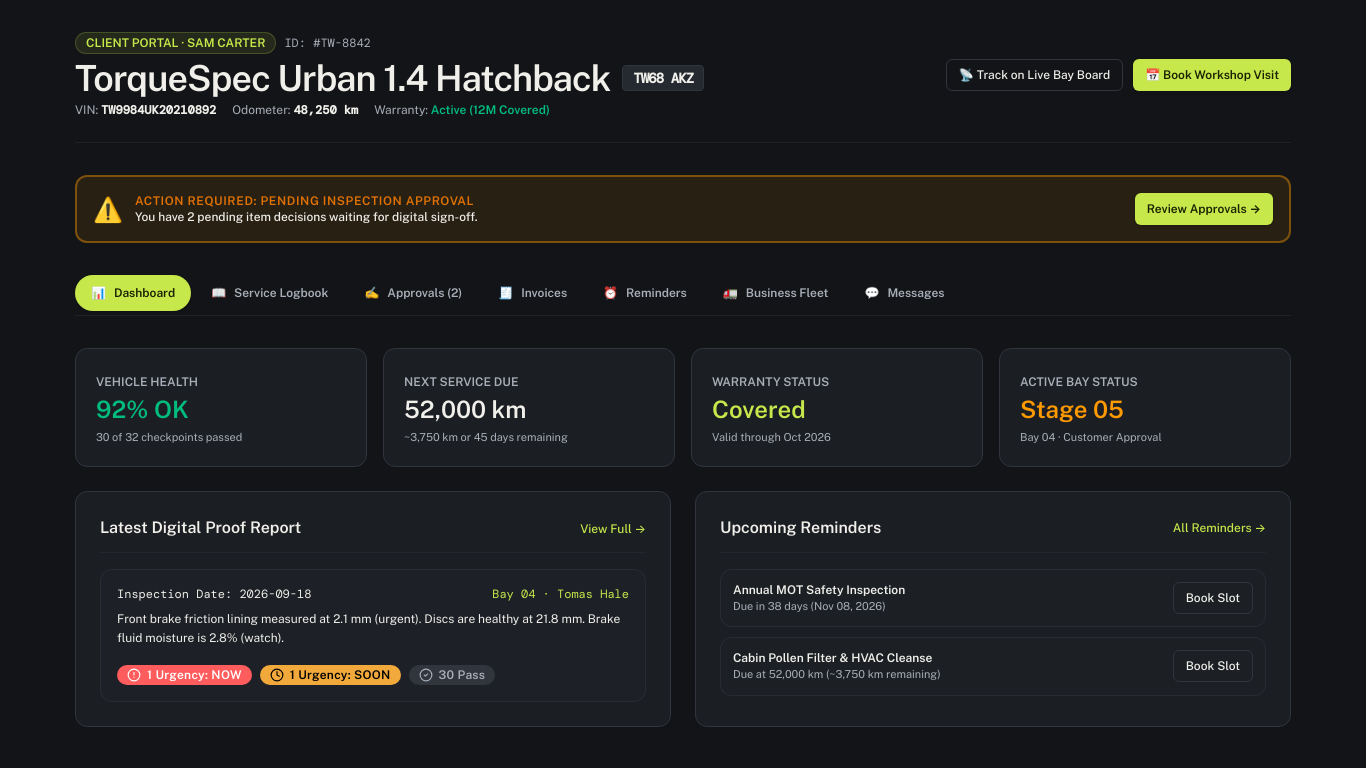
Test: Garage Customer Portal (Feature 06) › authorises a pending repair item in the Approvals tab
# Switch to Approvals tab via banner button
Click the button "Review Approvals →". click: (1204, 209)
box: left=1135, top=193, right=1273, bottom=225
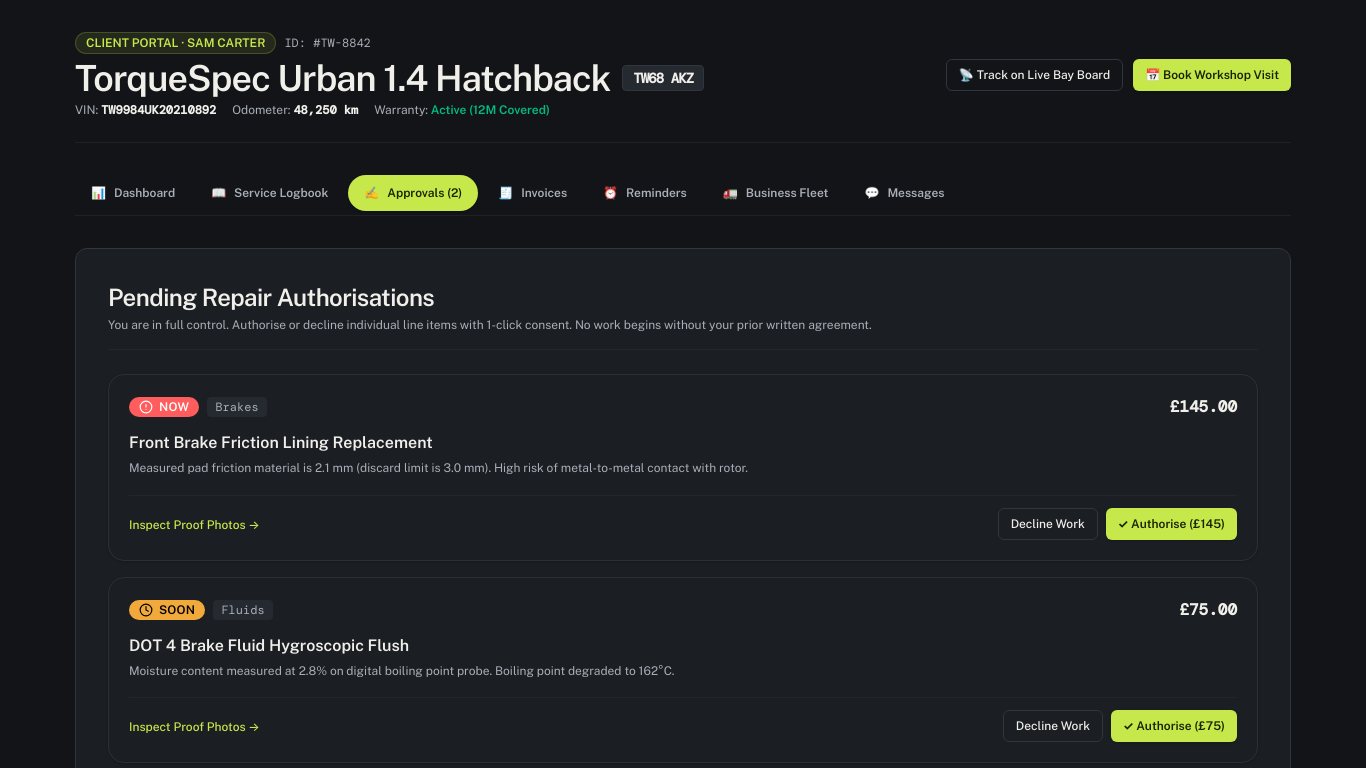
Expected: the heading "Pending Repair Authorisations" is shown, left=108, top=283, right=434, bottom=311
Expected: the heading "Front Brake Friction Lining Replacement" is shown, left=129, top=433, right=433, bottom=452
# Click Authorise on front pads (£145)
Click the button "✓ Authorise (£145)". click: (1171, 524)
box: left=1106, top=508, right=1237, bottom=540
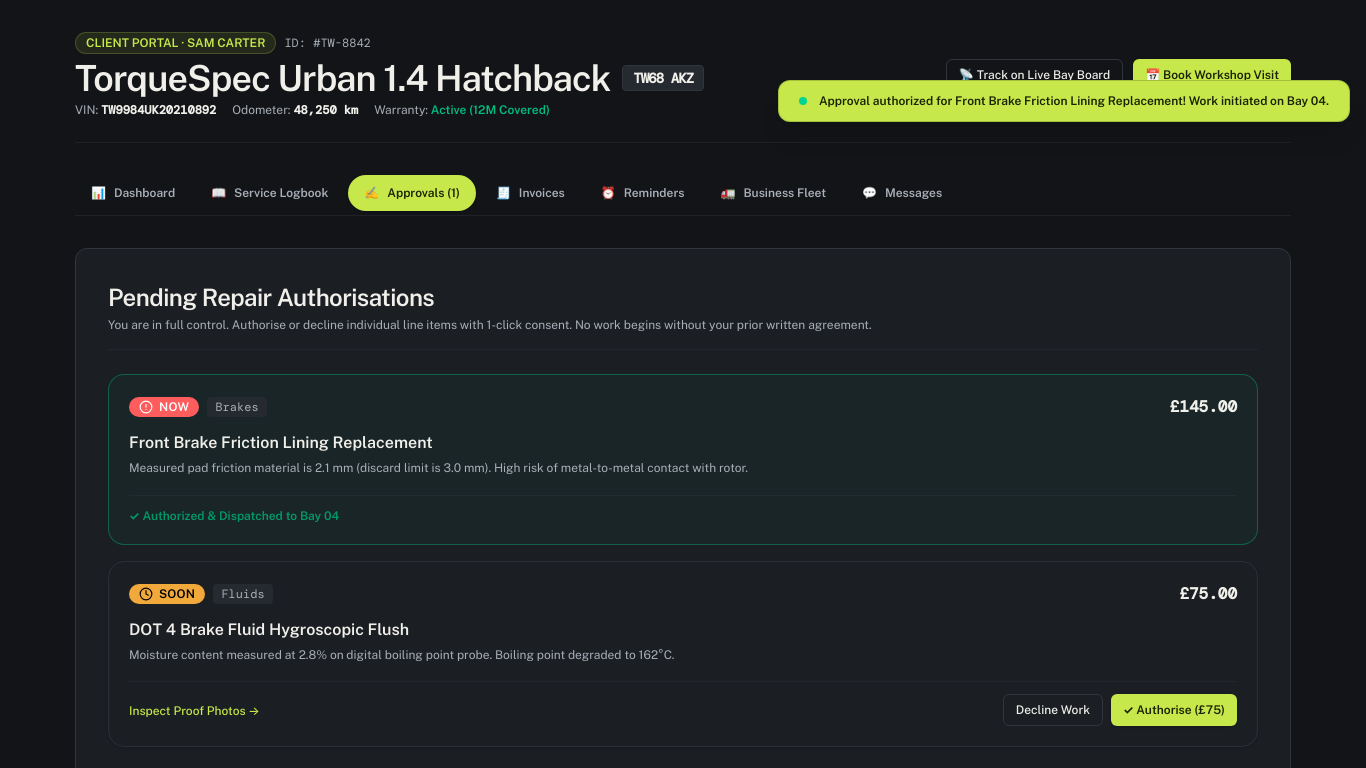
Expected: the text "✓ Authorized & Dispatched to Bay 04" is shown, left=129, top=508, right=339, bottom=524
Expected: the message is shown, left=778, top=80, right=1350, bottom=122
